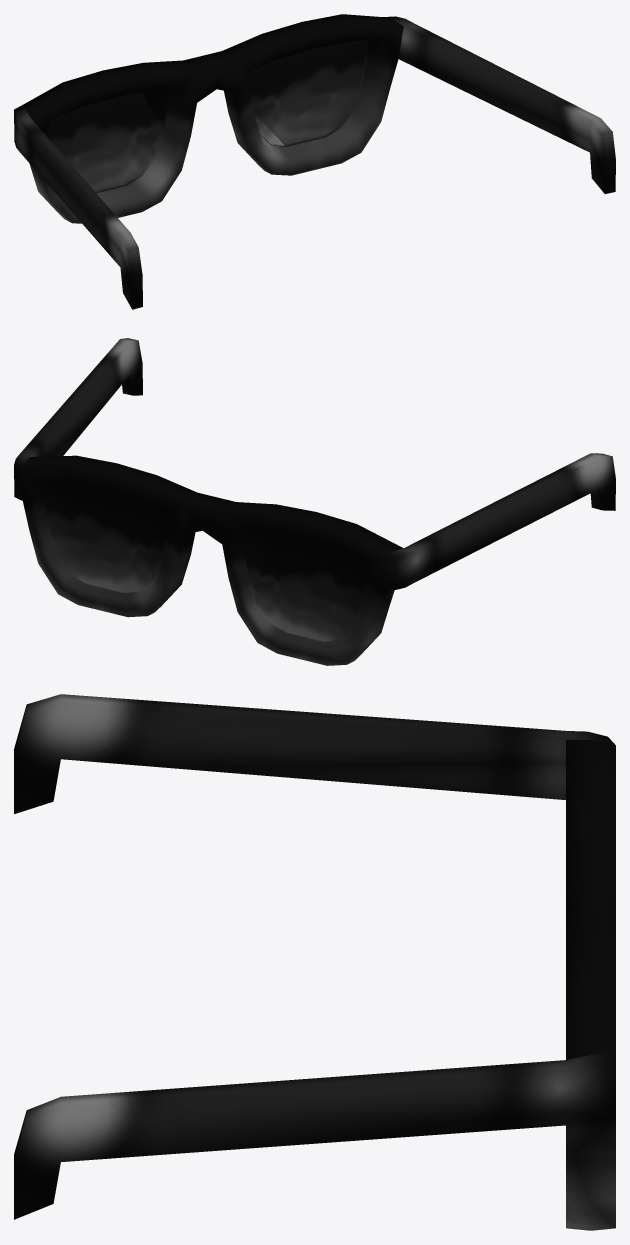
File: SunGlasses.gltf
3 renders of one model, top to bottom at view 1: azimuth 30°, elevation 25°; view 2: azimuth 150°, elevation 25°; view 3: azimuth 270°, elevation 25°, orthographic. The views are drawn at different scales.
Parts seen in each view (by area): view 1: Cube; view 2: Cube; view 3: Cube.
Boxes of the visible parts, left/top/right/bottom form: Cube: left=14, top=14, right=615, bottom=309; Cube: left=14, top=338, right=615, bottom=665; Cube: left=14, top=694, right=615, bottom=1230.
Size of the model in its own units: 0.7337 by 0.2026 by 0.4492.
Materials: 1 (1 with a texture image).
